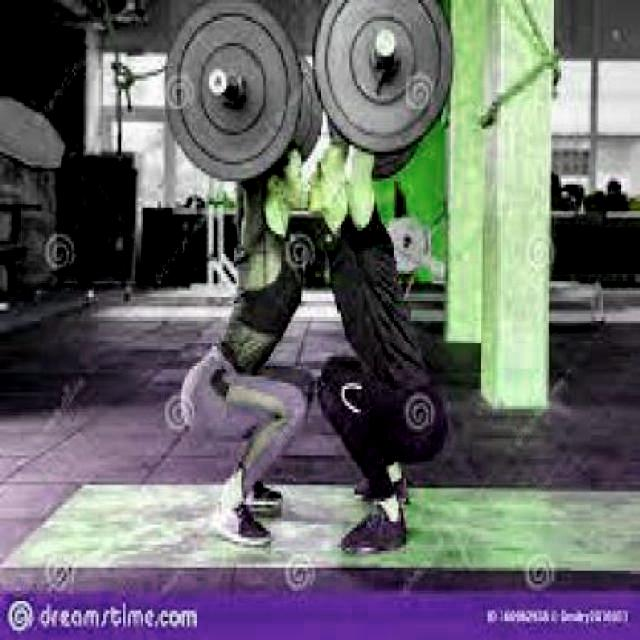barbell: (158, 1, 303, 183), (308, 1, 457, 161)
